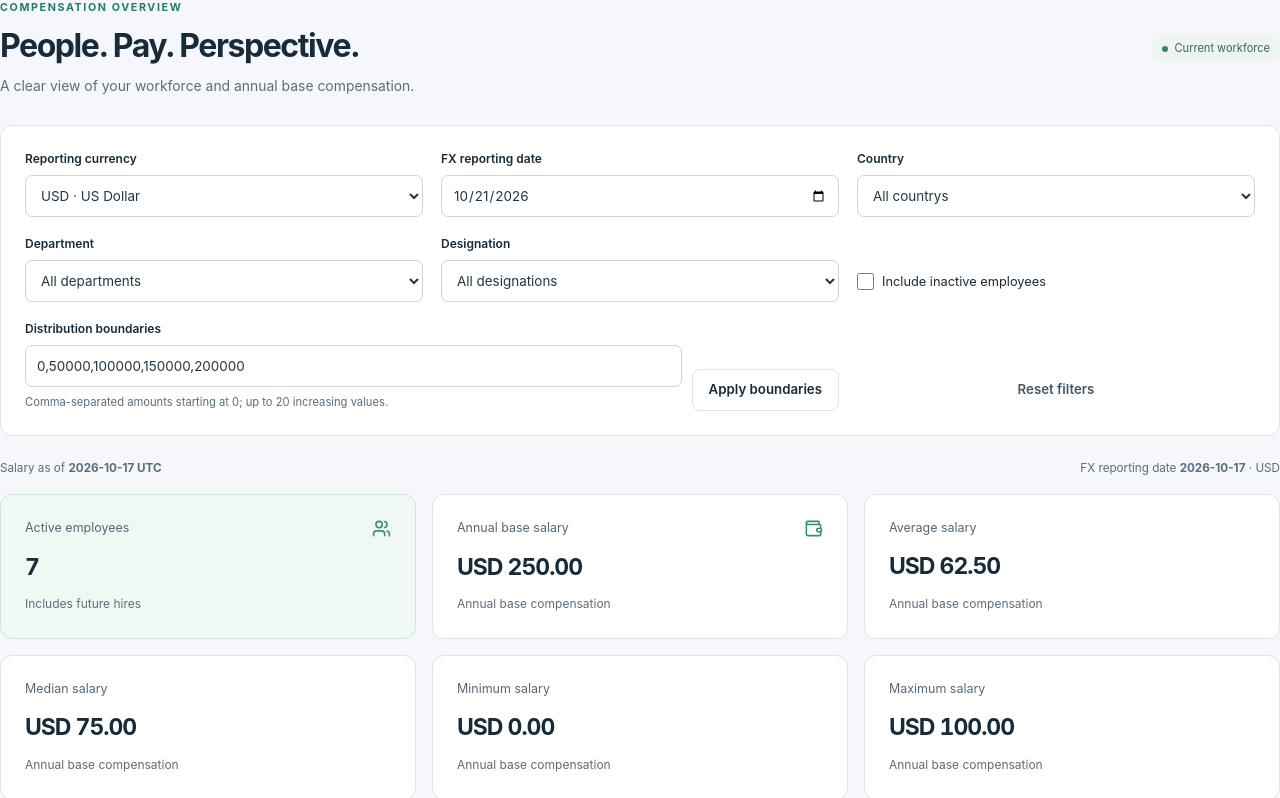
salary range input › blocks invalid submission without changing filters or sending another request
Expected: the heading "People. Pay. Perspective." is shown, [0,26,414,66]
Replace the text in the field labelled "Distribution boundaries" with "0,100,50": (353, 366) [25,345,682,387]
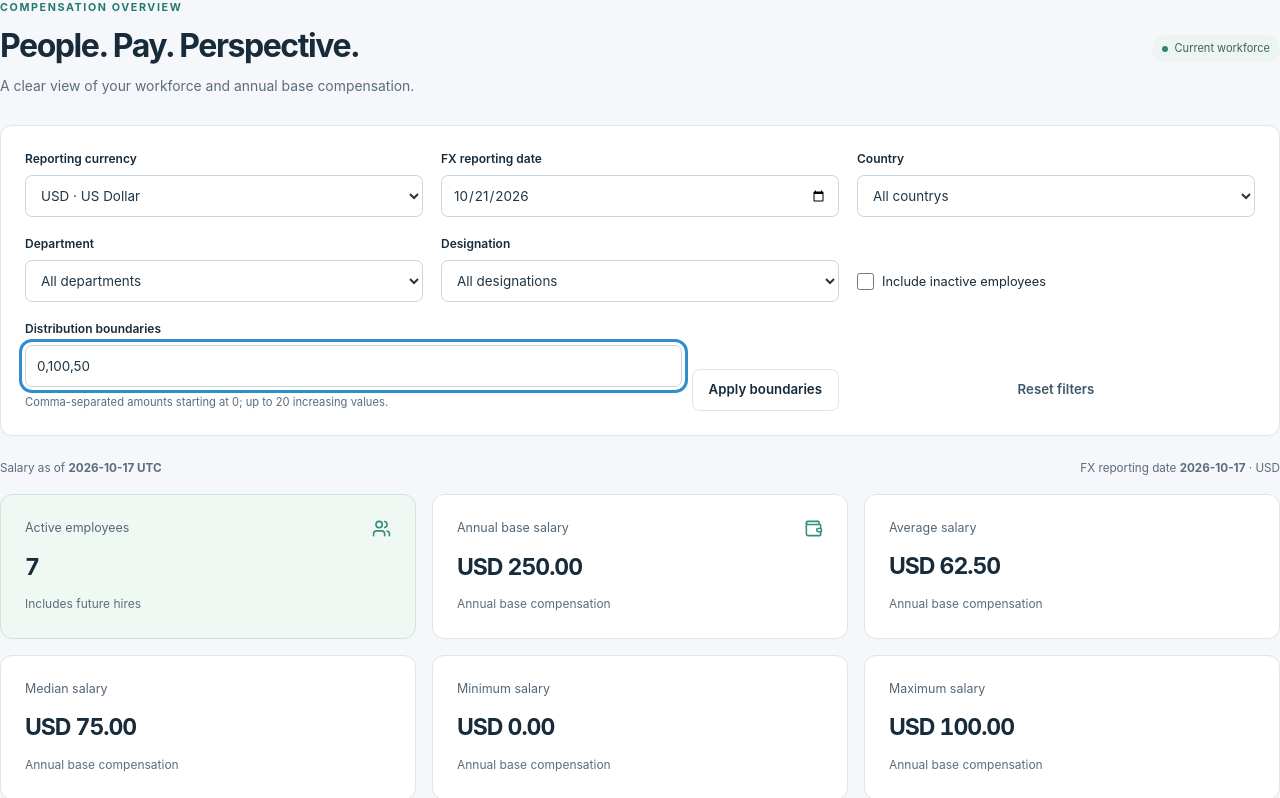
Click the button "Apply boundaries": (765, 390) [692,369,839,411]
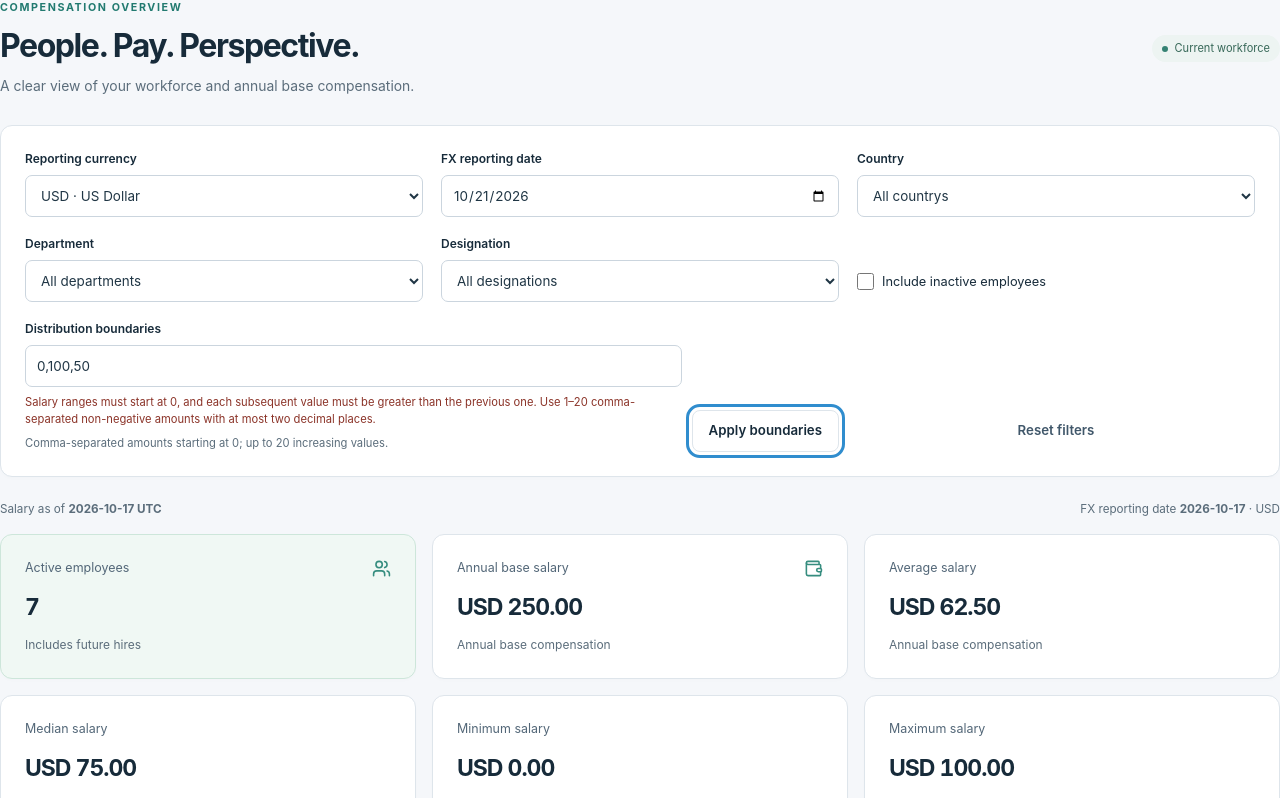
Now the message shows "Salary ranges must start at 0", box [25,395,635,426]
